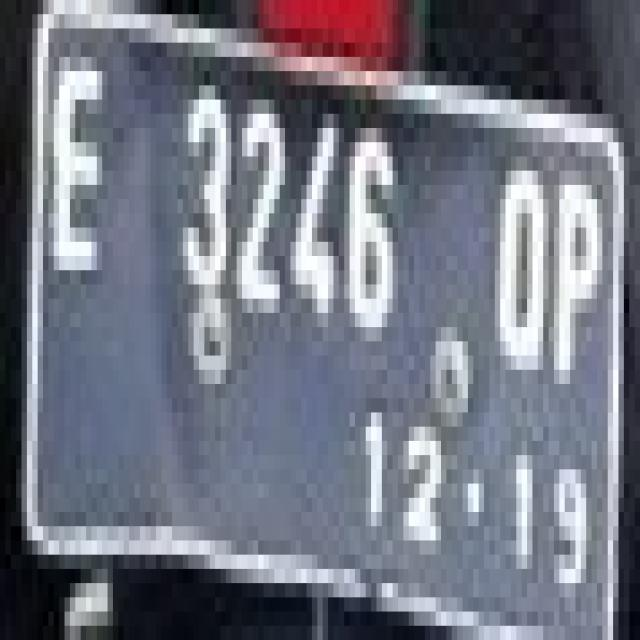plate: (16, 0, 624, 626)
